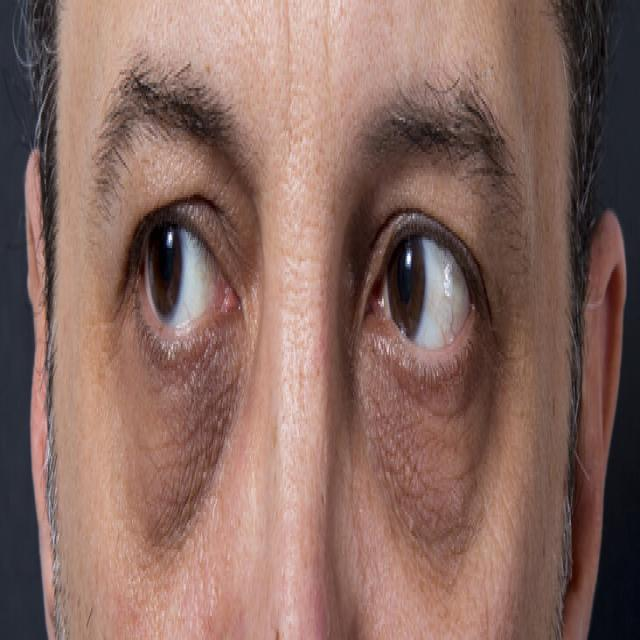Eyebags: (115, 303, 239, 540), (360, 363, 476, 562)
